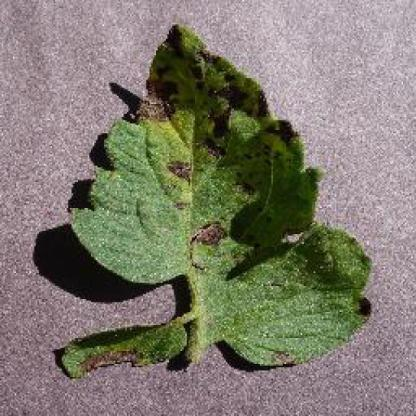Tomato_Blight: (54, 23, 373, 377)
